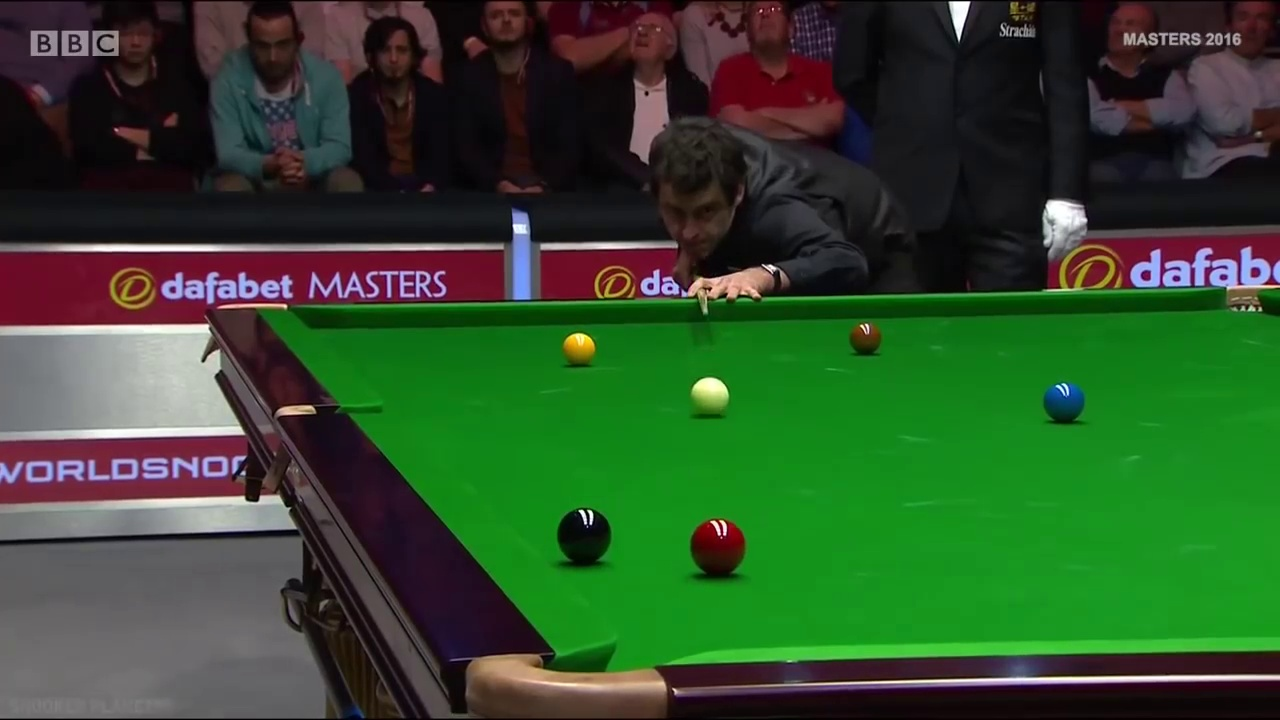ball: (555, 507, 613, 566), (686, 518, 746, 575), (1040, 379, 1087, 424), (689, 375, 734, 415), (563, 331, 598, 368), (847, 321, 881, 352)
